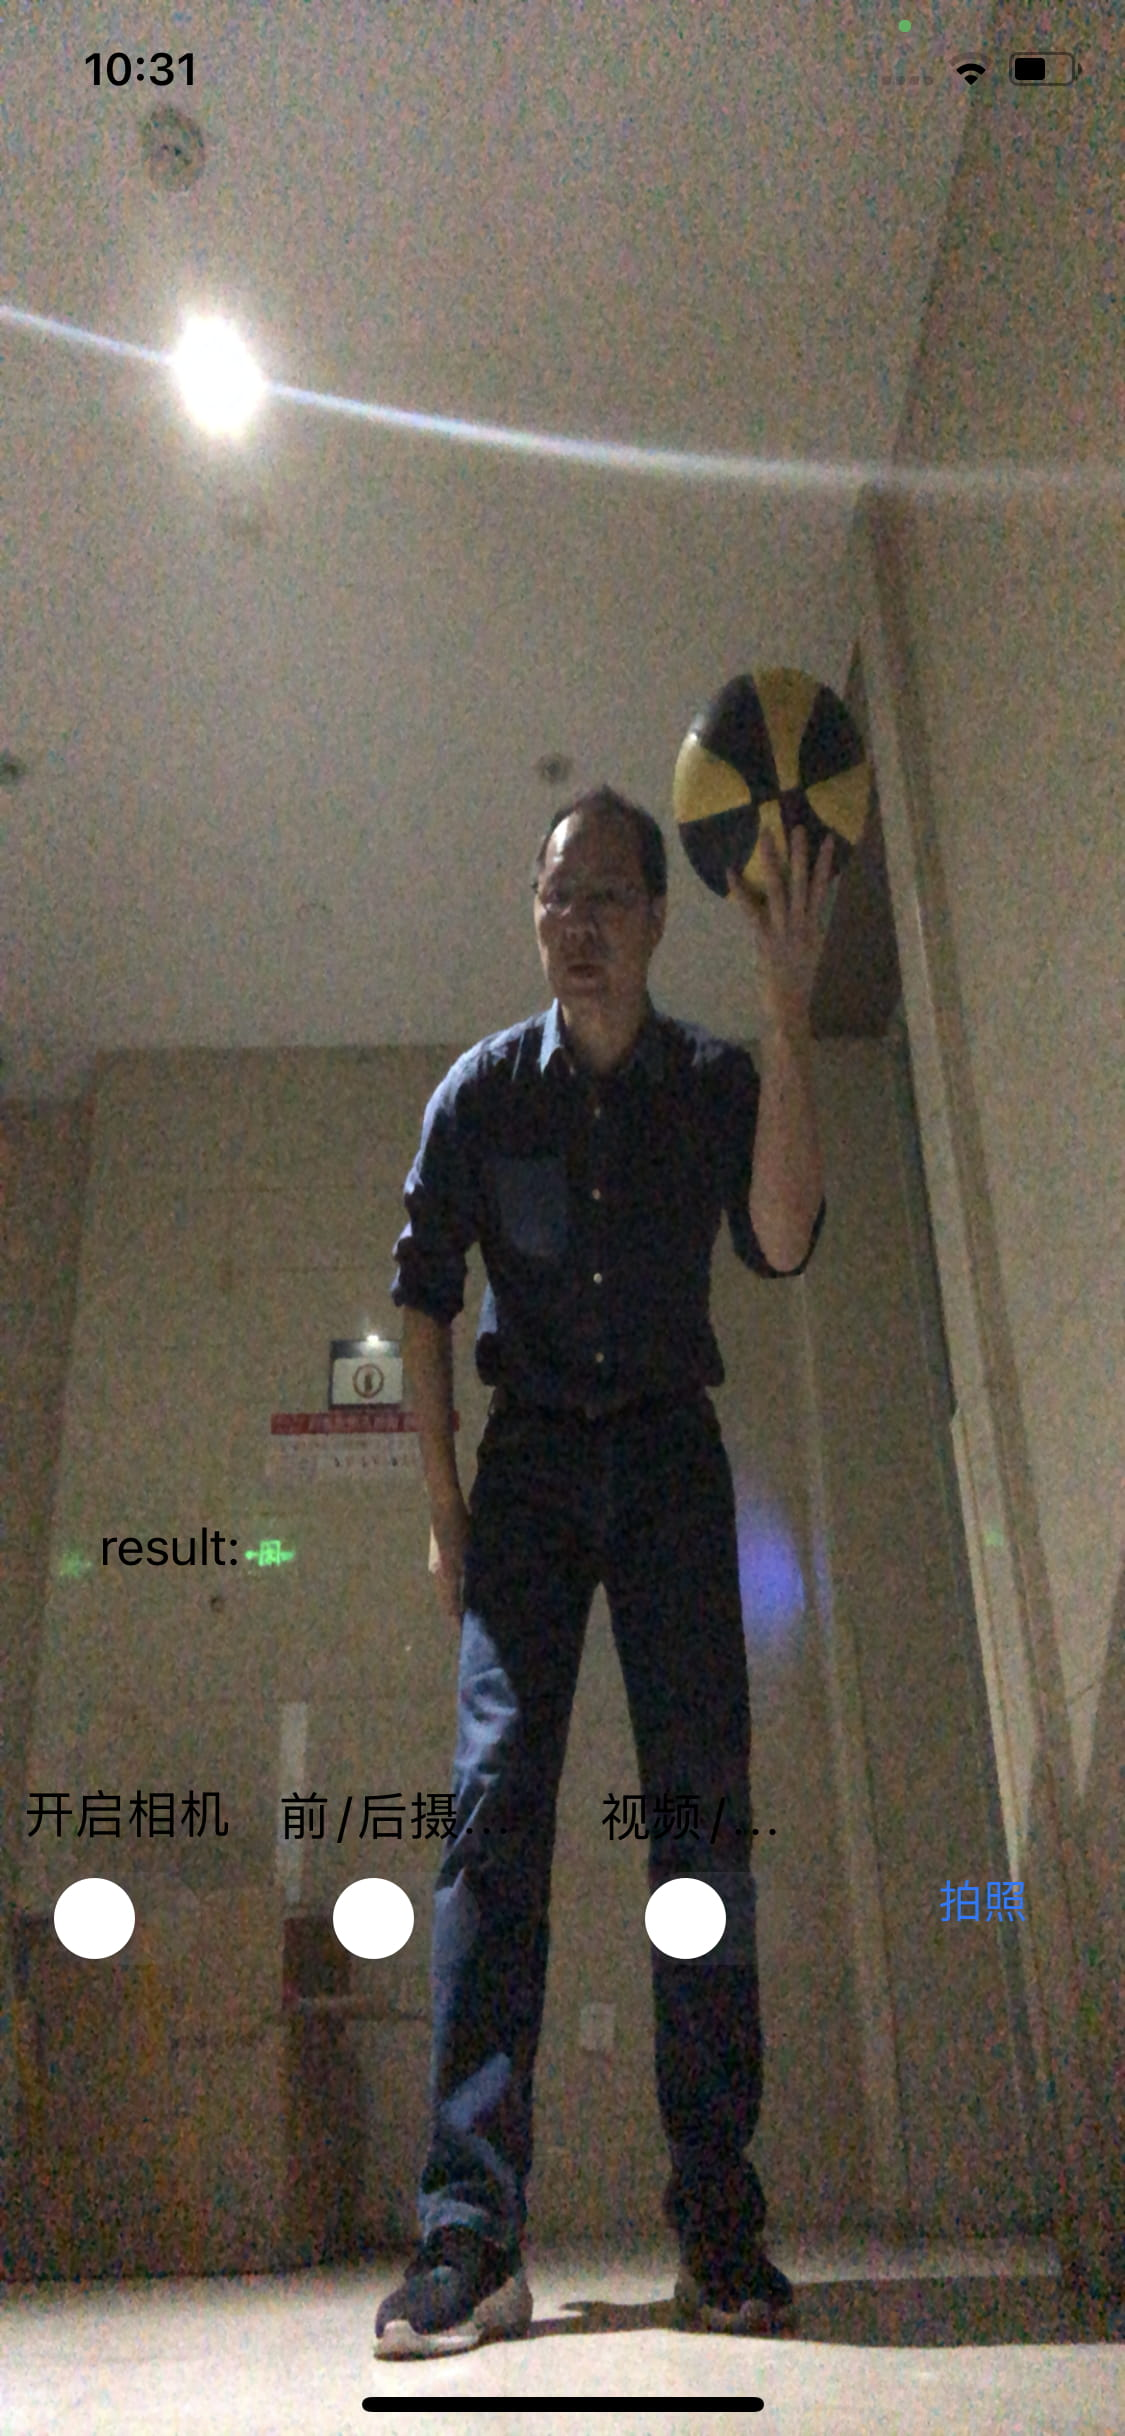ball: (674, 665, 869, 904)
